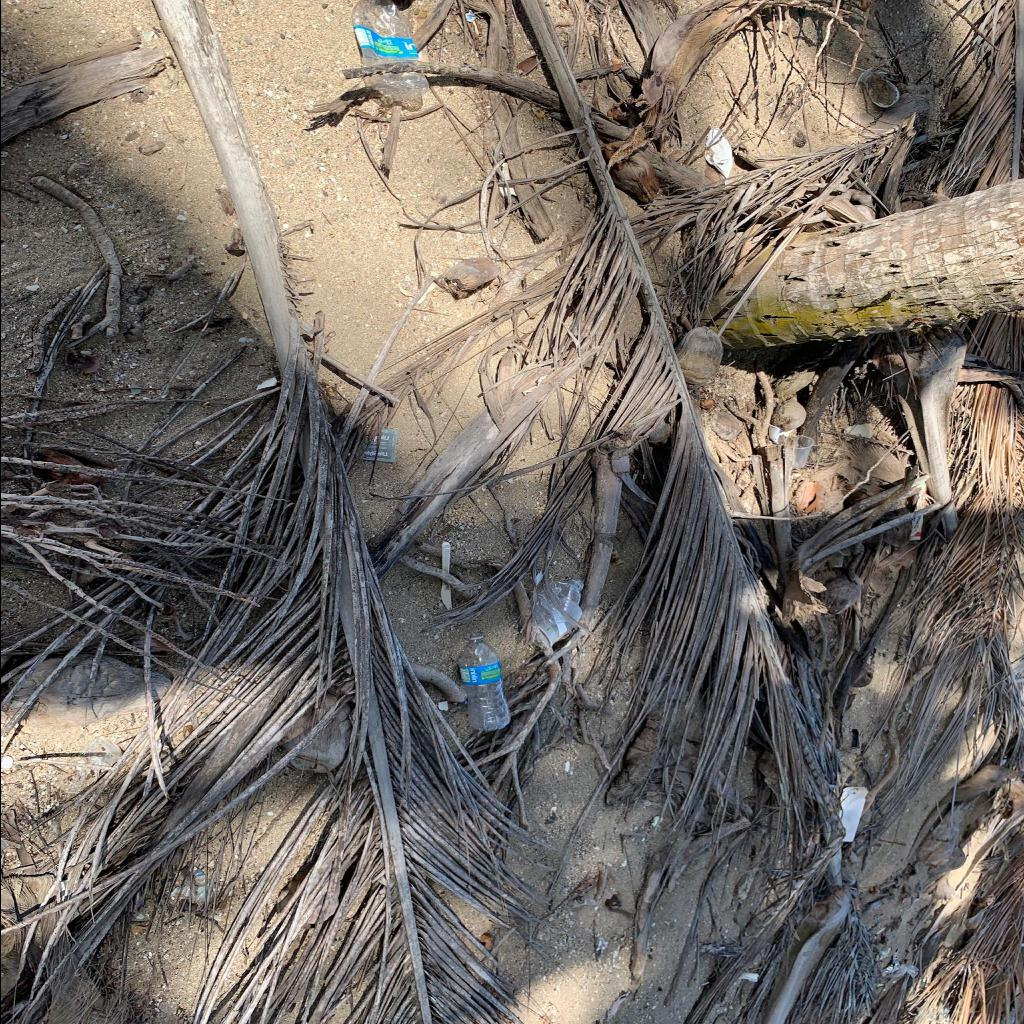Clear plastic bottle: (352, 0, 430, 102), (456, 633, 510, 730), (534, 579, 582, 625)
Disposable plastic cup: (535, 606, 581, 646), (786, 436, 812, 468)
Plastic utensils: (440, 542, 452, 608)
Unlabeled litter: (839, 788, 869, 842), (703, 130, 733, 178), (360, 429, 400, 463), (879, 954, 917, 978), (910, 492, 924, 540)
